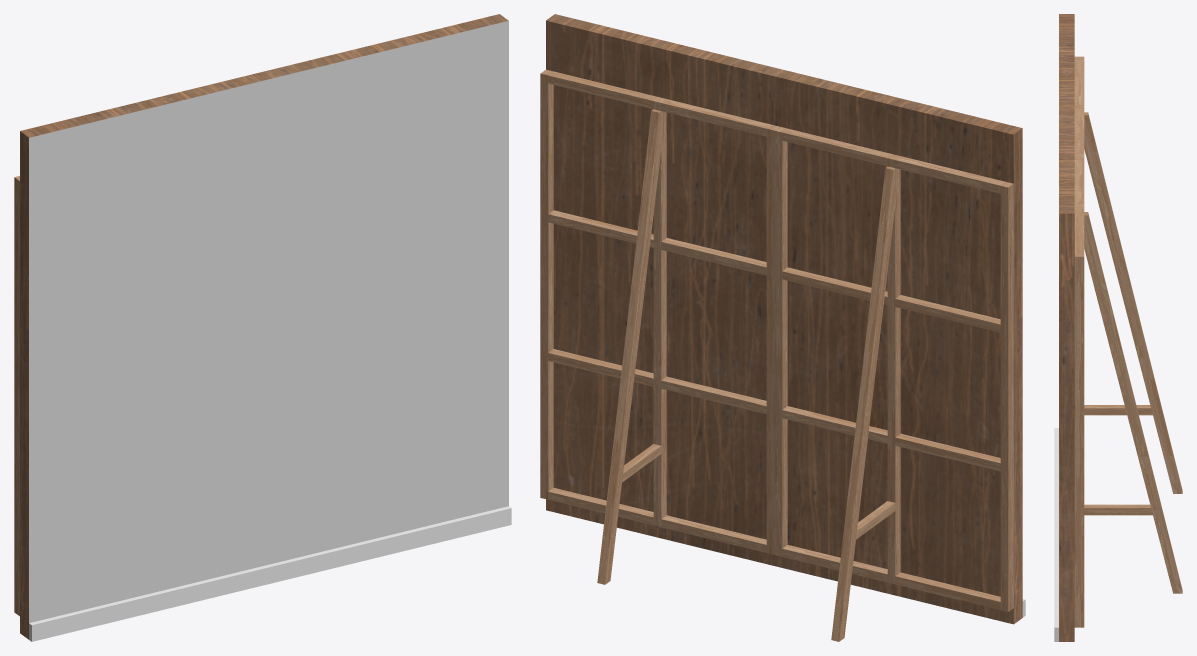
File: MovieSet_Wall_Large.fbx
The picture shows the model from 3 angles, left to right: view 1: azimuth 30°, elevation 25°; view 2: azimuth 150°, elevation 25°; view 3: azimuth 270°, elevation 25°; orthographic projection. The views are drawn at different scales.
Parts seen in each view (by area): view 1: MovieSet_Wall_Large; view 2: MovieSet_Wall_Large; view 3: MovieSet_Wall_Large.
Boxes of the visible parts, box(x1,y1,x2,y2) form: MovieSet_Wall_Large: box(14, 14, 511, 641); MovieSet_Wall_Large: box(540, 14, 1025, 641); MovieSet_Wall_Large: box(1054, 14, 1182, 641).
Size of the model in its own units: 3 by 3 by 0.8145.
